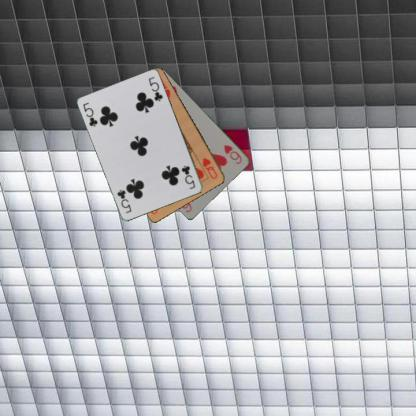5c: (80, 100, 100, 128), (179, 163, 197, 191)
6h: (221, 142, 244, 165)
Qh: (200, 155, 219, 180)
